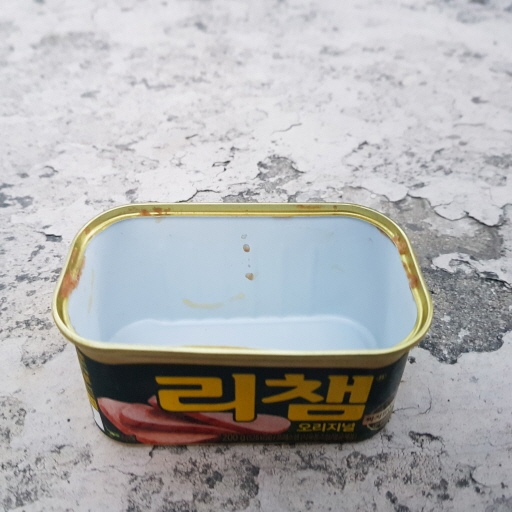Metal_2: (54, 201, 433, 450)
